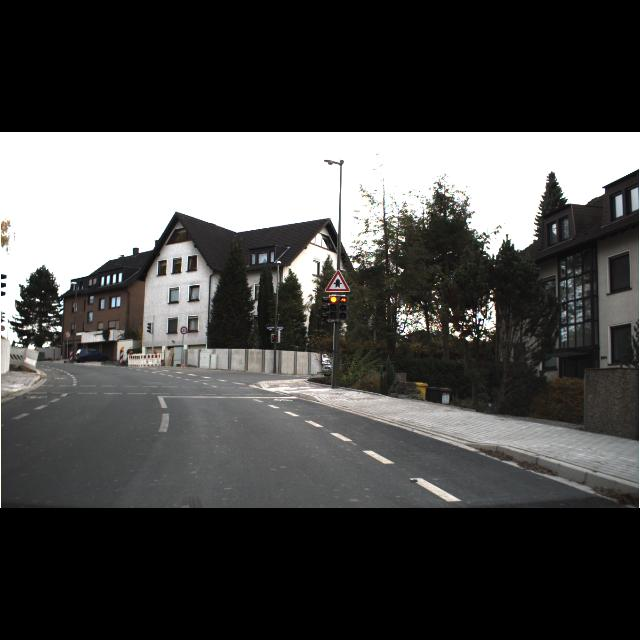danger: (324, 270, 350, 292)
prohibitory: (180, 326, 188, 334)
